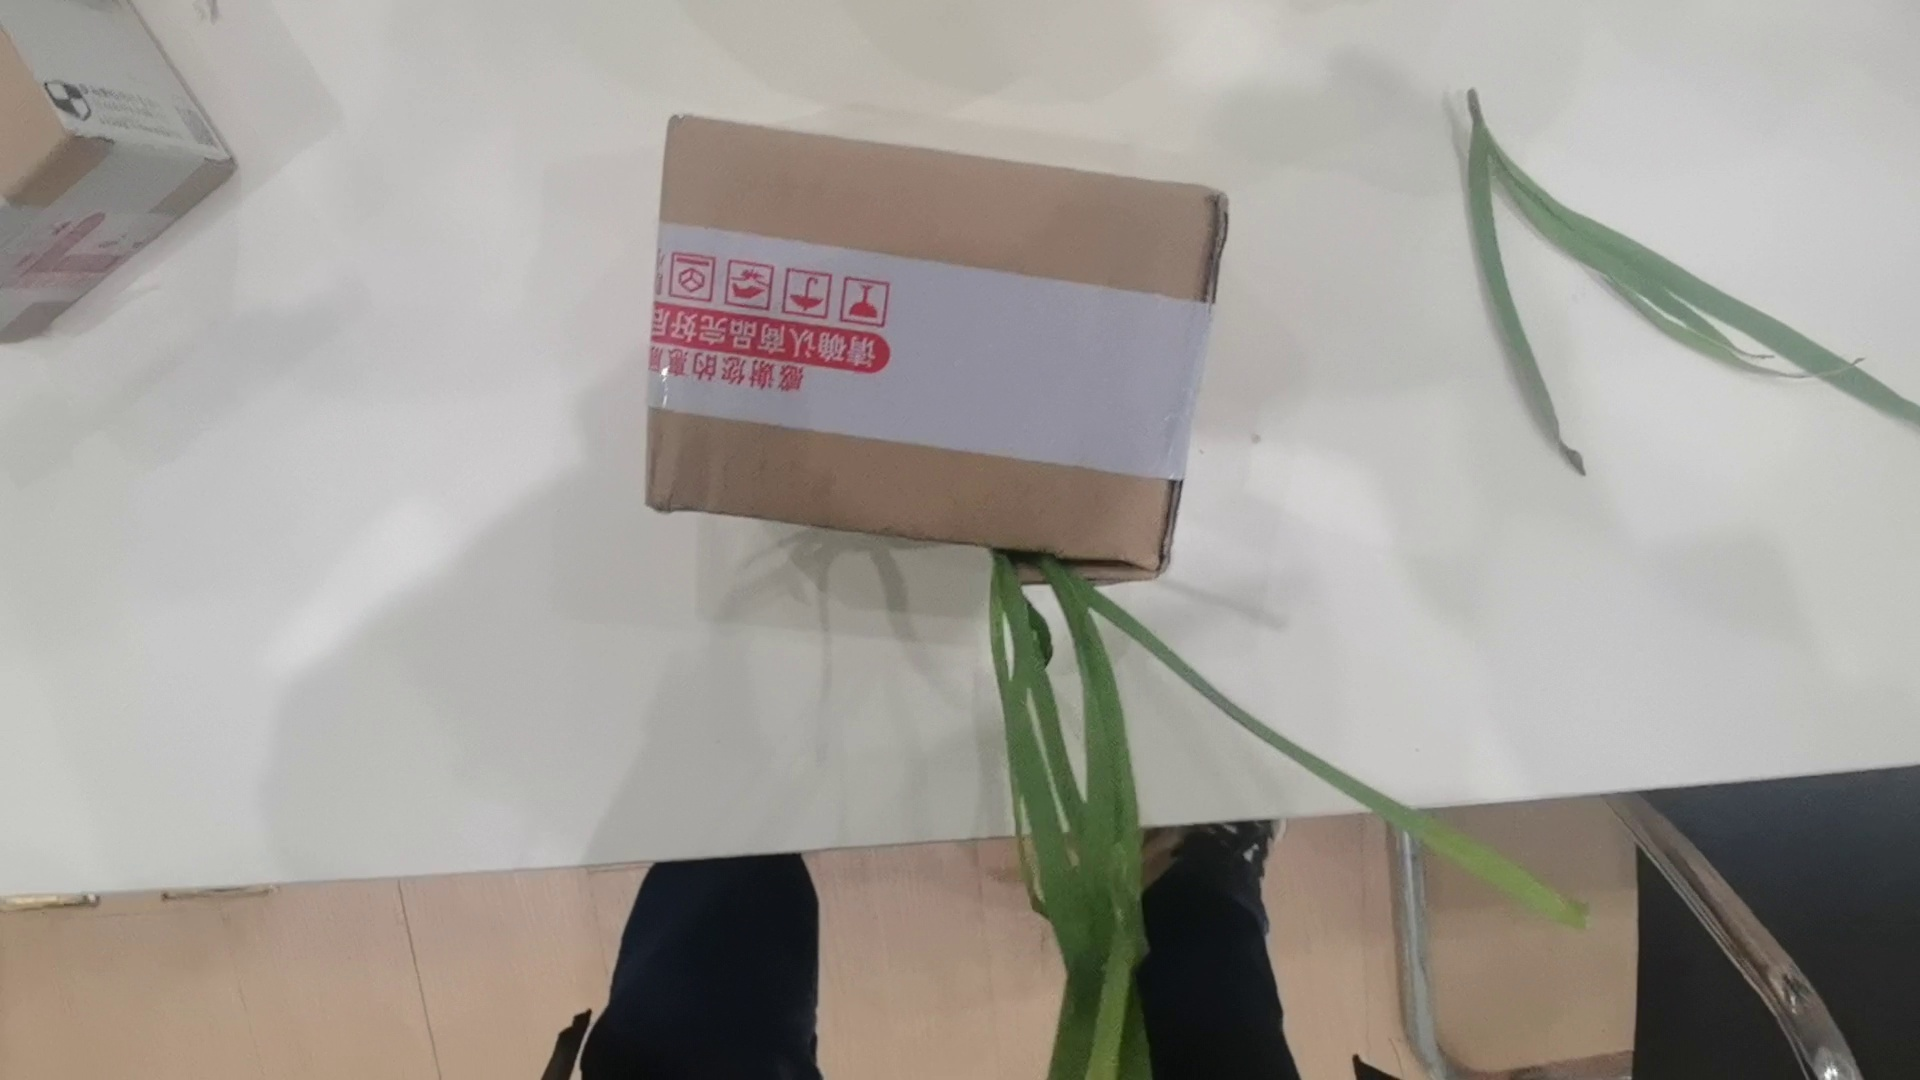chives: (923, 544, 1670, 1061), (1449, 70, 1920, 445)
